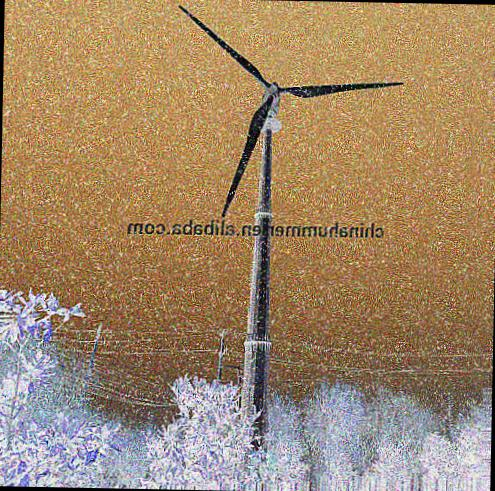wind turbine: (174, 4, 407, 444)
